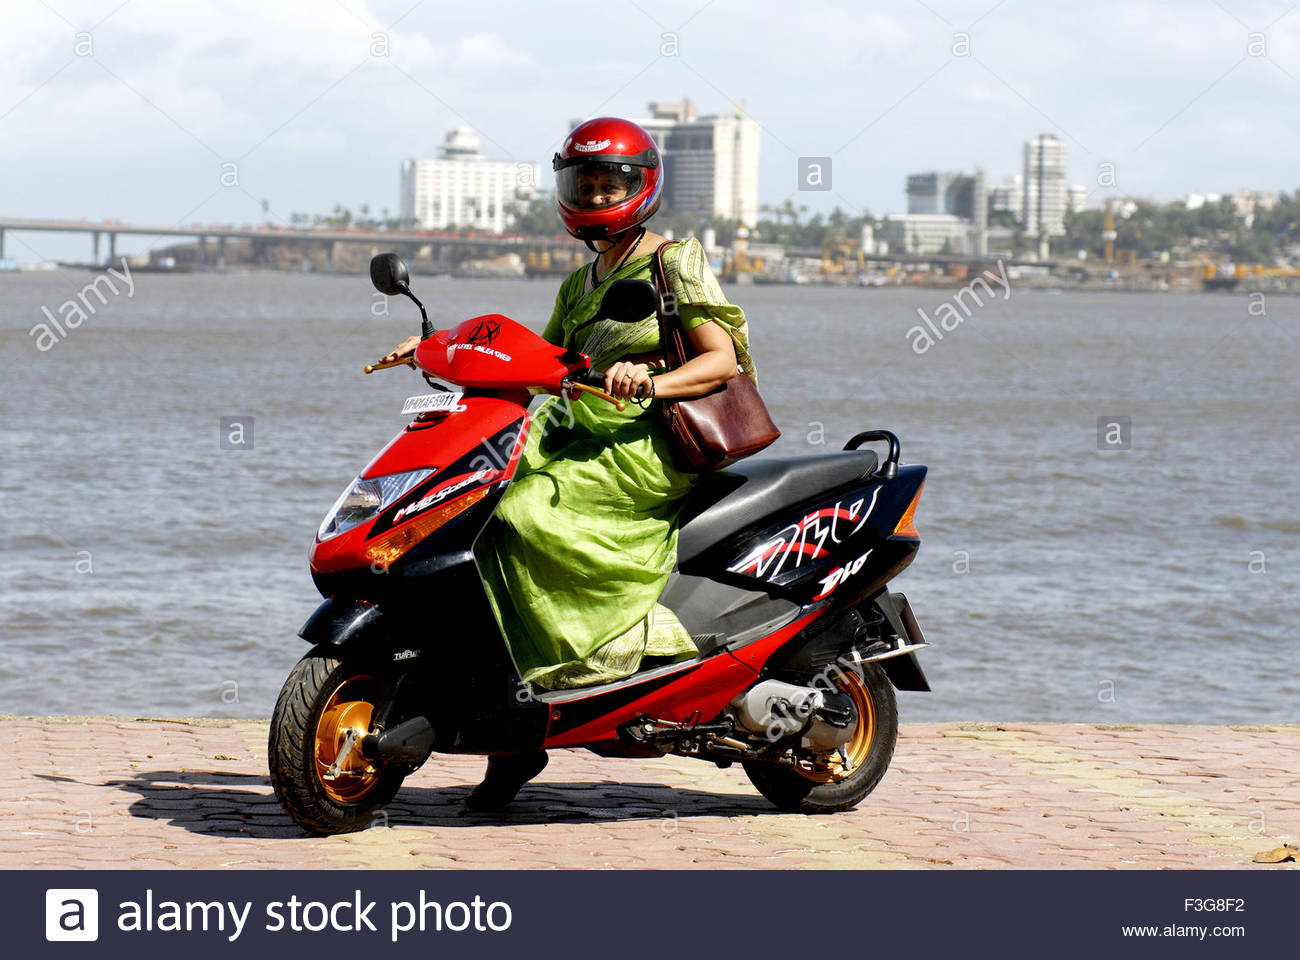helmet: (538, 109, 671, 240)
